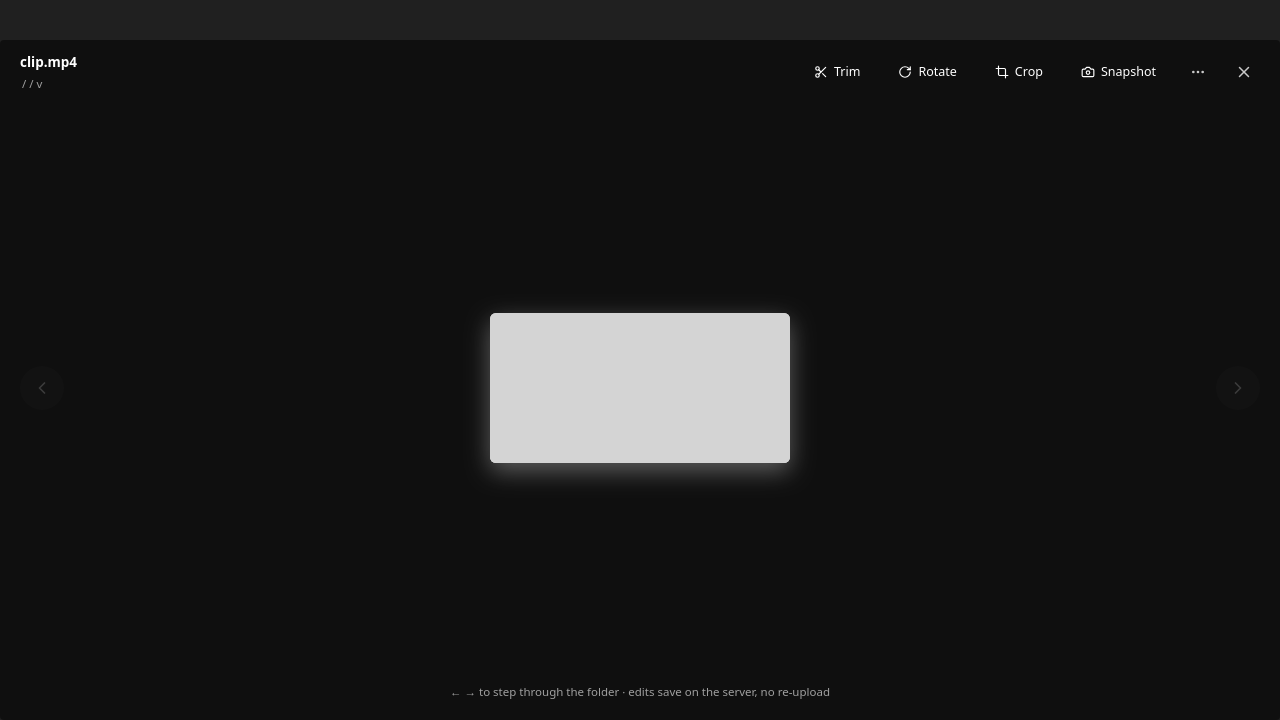
QuickLookOverlay trim toolbar › dragging the end handle updates the out-point from the pointer position
This screenshot has width=1280, height=720.
Click the button with aria-label "Trim video": click(837, 72) [802, 56, 872, 88]
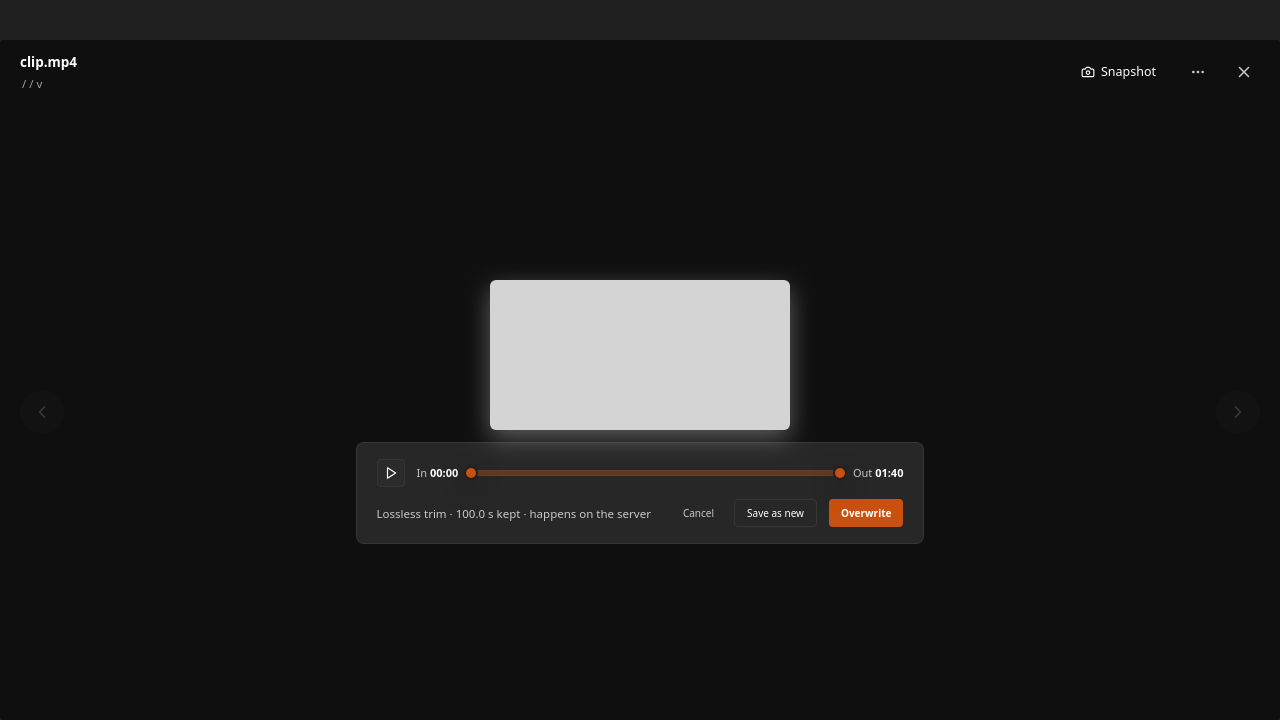
Press the mouse on the slider named "Trim end": (840, 473) [833, 466, 847, 480]
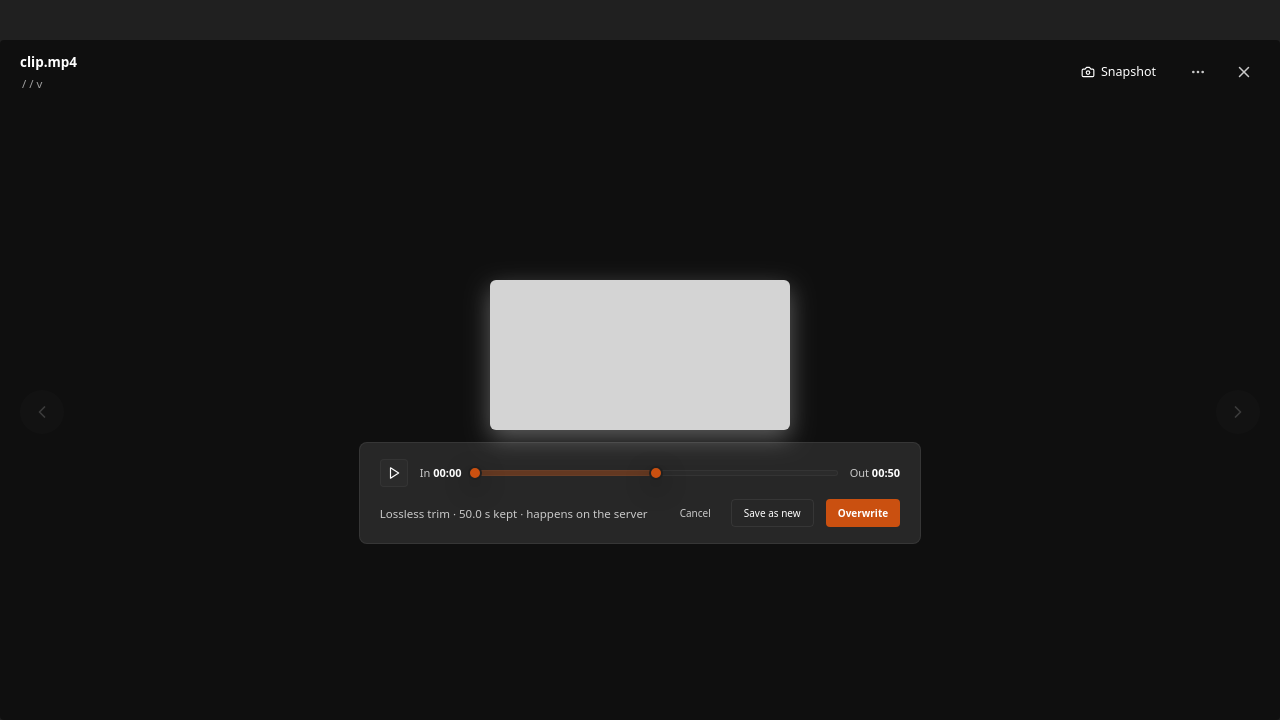
Result: the text with test id "trim-out" reads "00:50" at [872, 465, 900, 480]
